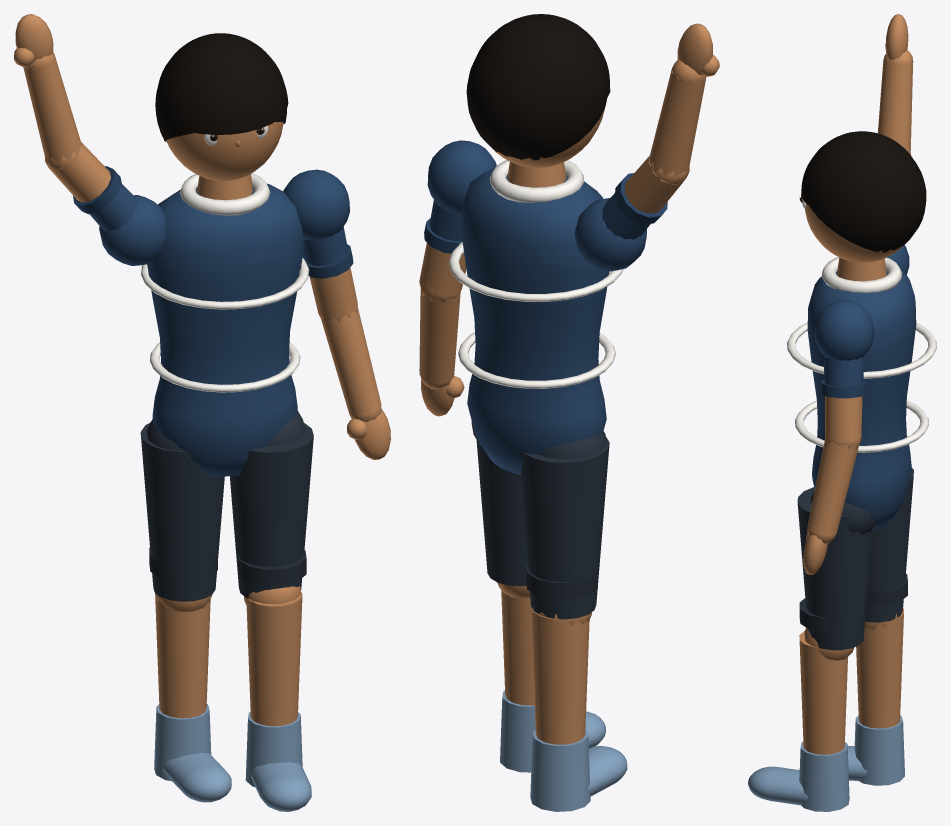
The model's file is 10-dani.glb.
3 renders of one model, left to right at view 1: azimuth 30°, elevation 25°; view 2: azimuth 150°, elevation 25°; view 3: azimuth 270°, elevation 25°, orthographic. The views are drawn at different scales.
Parts seen in each view (by area): view 1: Dani, skull, elbow (×2), armL, armR; view 2: Dani, skull, elbow (×2), armR, armL; view 3: Dani, skull, elbow (×2), armL.
Part boxes in pixels (x1,y1,x2,y2): Dani: [140, 173, 313, 811]; skull: [155, 33, 288, 180]; elbow (×2): [14, 14, 390, 459]; armL: [283, 169, 357, 318]; armR: [49, 142, 166, 265]; Dani: [448, 160, 627, 811]; skull: [466, 14, 610, 167]; elbow (×2): [419, 23, 719, 416]; armR: [575, 155, 686, 271]; armL: [420, 140, 496, 295]; Dani: [748, 257, 936, 811]; skull: [799, 131, 926, 262]; elbow (×2): [803, 14, 913, 574]; armL: [814, 299, 874, 440].
Bounding box in the file's own units: 0.599 × 1.37 × 0.3347.
